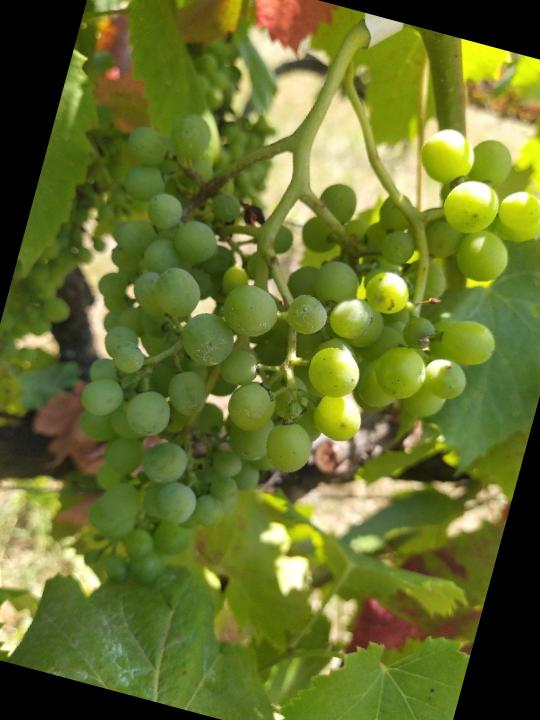grape: (16, 49, 540, 671)
